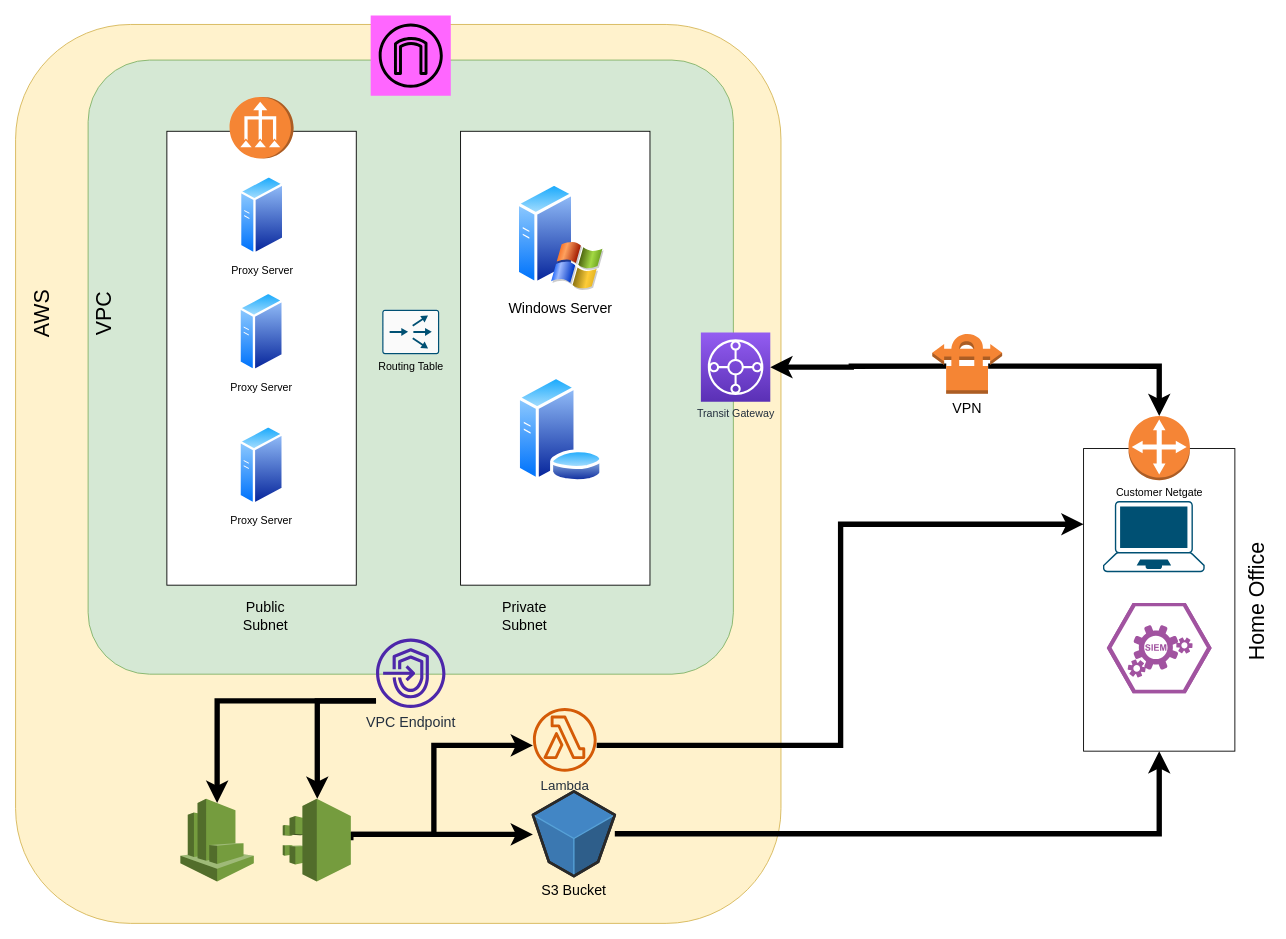
The diagram is 1286 pixels wide and 939 high, and some of its shapes have lost their labels. The box of each missing label's shape, as (x1, y1, x2, y2) in pixels:
Cloud Trail: (282, 798, 351, 882)
CloudWatch: (180, 798, 254, 882)
Internet gateway: (370, 15, 451, 96)
Linux Server: (516, 376, 603, 482)
NAT gateway: (229, 96, 294, 158)
Wazha: (1106, 602, 1212, 693)
